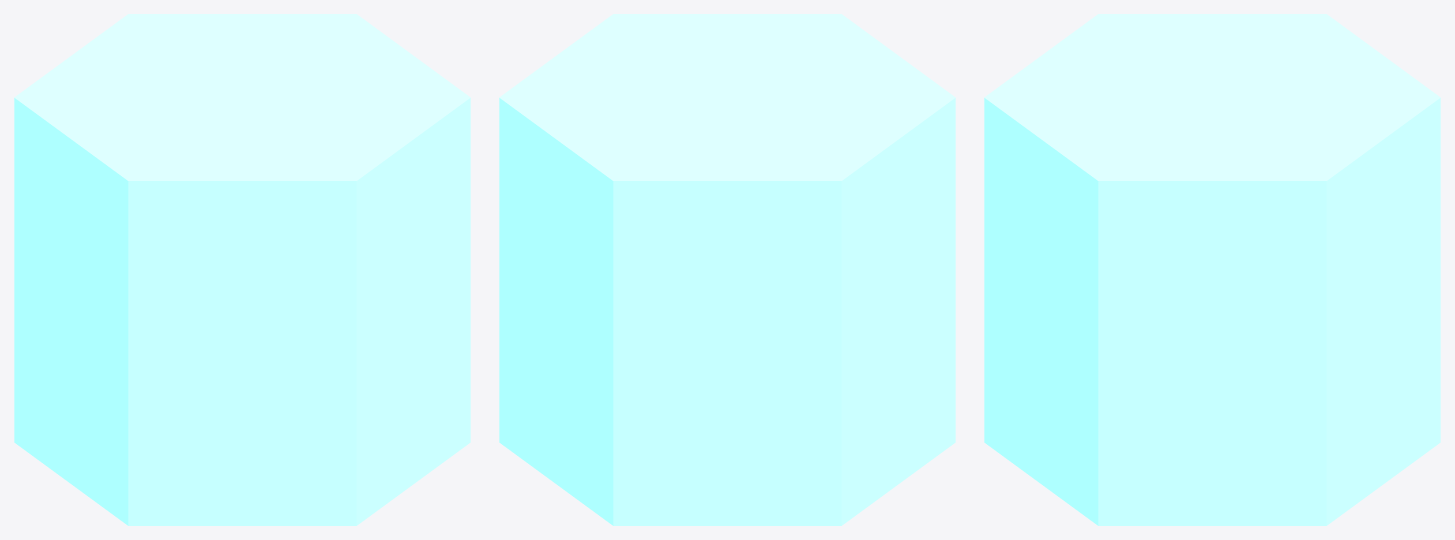
File: Collectible_ShieldCell.fbx
The picture shows the model from 3 angles, left to right: view 1: azimuth 30°, elevation 25°; view 2: azimuth 150°, elevation 25°; view 3: azimuth 270°, elevation 25°; orthographic projection.
Visible parts, largest first — view 1: ShieldCell; view 2: ShieldCell; view 3: ShieldCell.
Part boxes in pixels (x1,y1,x2,y2): ShieldCell: (14,14,470,525); ShieldCell: (499,14,955,525); ShieldCell: (984,14,1440,525).
Size of the model in its own units: 0.2078 by 0.24 by 0.2.
